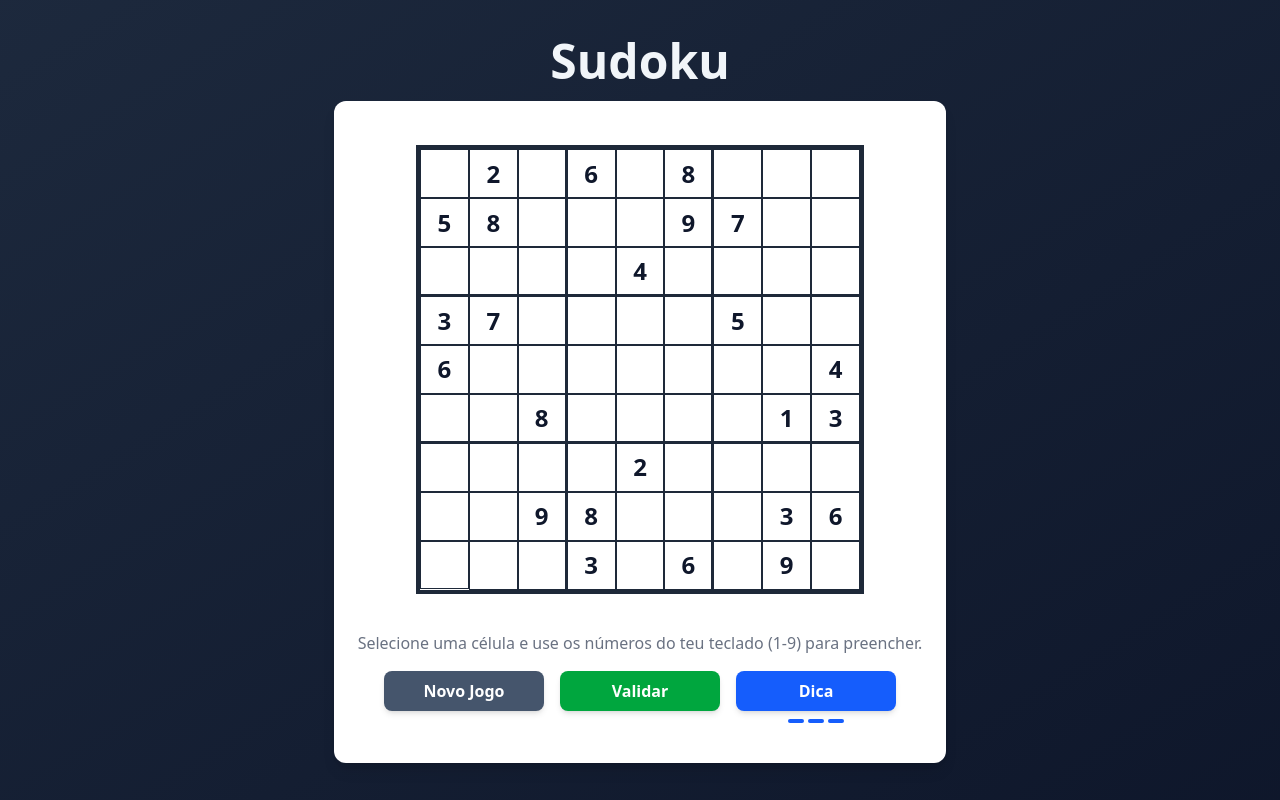
Test case: Sudoku Game › should disable hint button after 3 uses
What coordinates should you click on to do the following:
click the button "Dica"
I would click on:
 (816, 691)
Its box is [736,671,896,711].
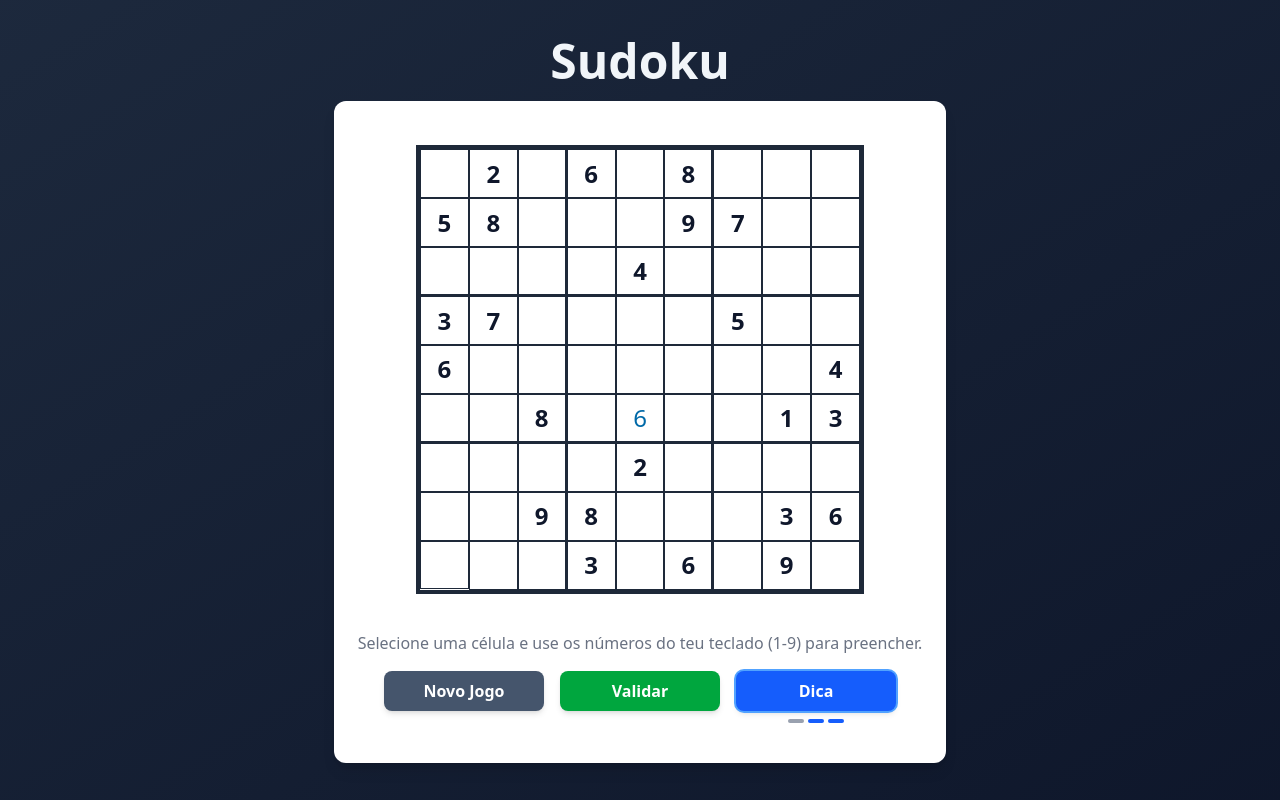
What coordinates should you click on to do the following:
click the button "Dica"
I would click on:
 (816, 691)
Its box is [736,671,896,711].
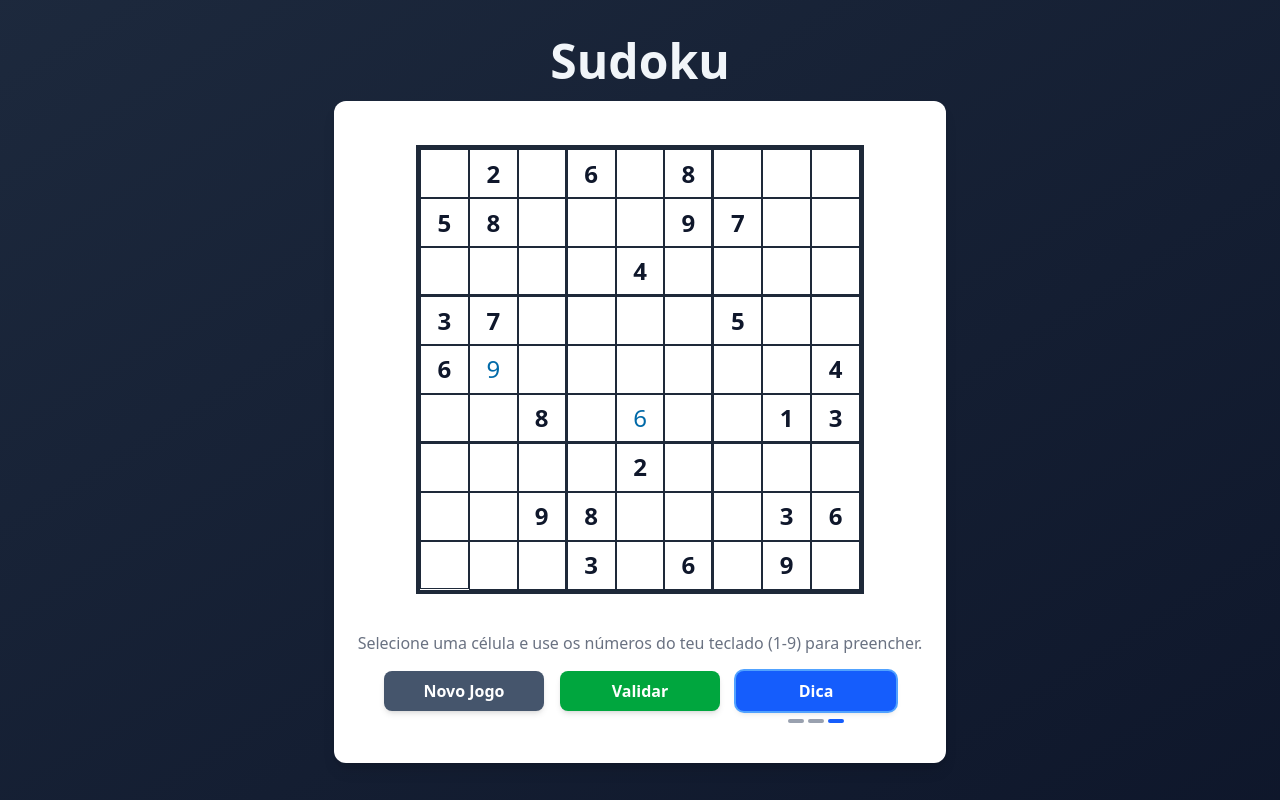
What coordinates should you click on to do the following:
click the button "Dica"
I would click on:
 (816, 691)
Its box is [736,671,896,711].
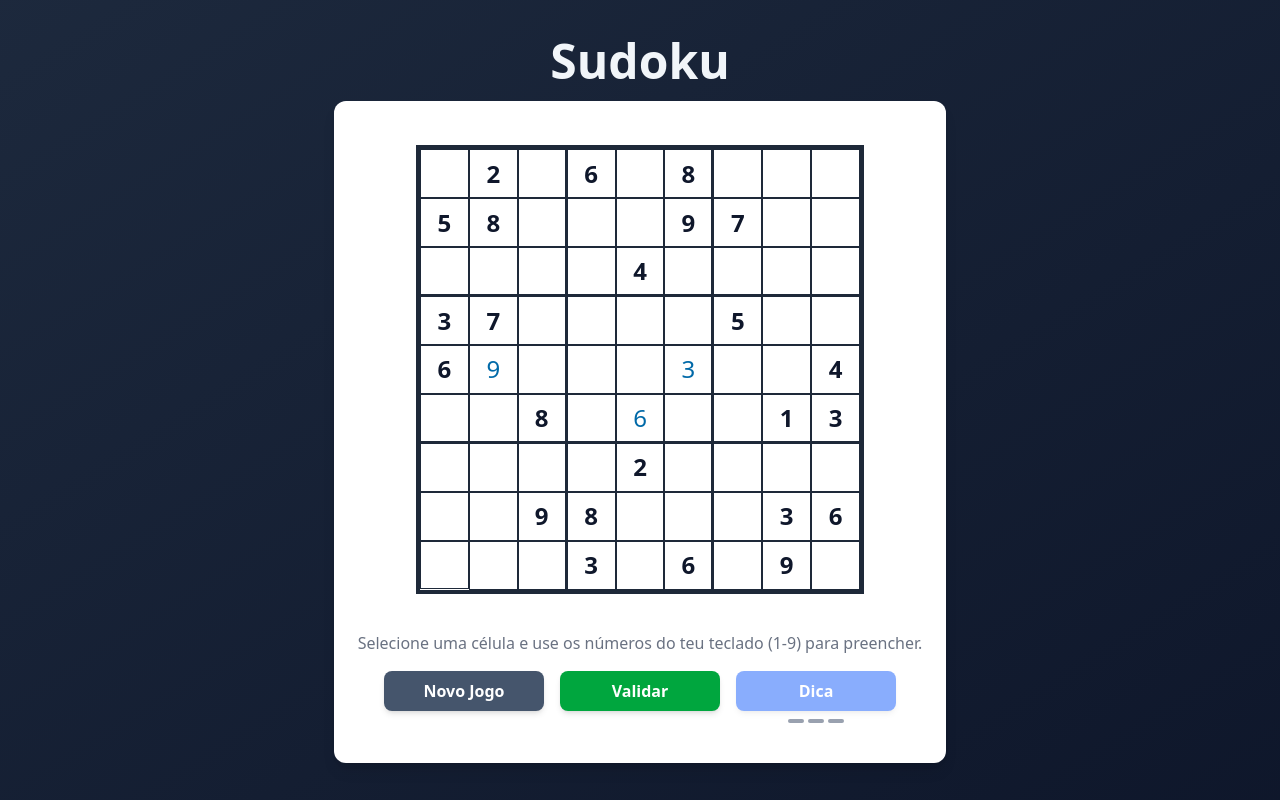
Expected: the button "Dica" is disabled, [736,671,896,711]
